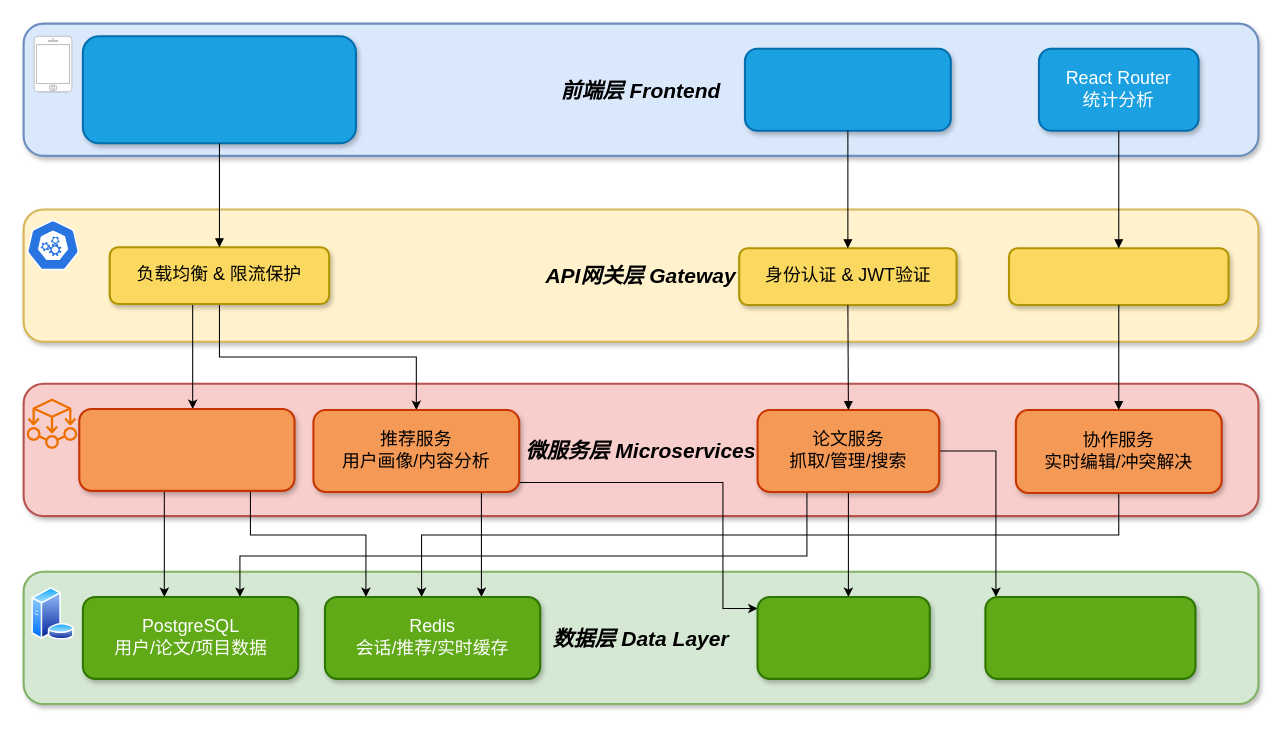
This 1283x730 diagram has some shape labels left out. Each missing label, with the centre of its shape:
"Elasticsearch 全文/智能搜索" belongs at (x=844, y=639).
"Material-UI 协作编辑/用户管理" belongs at (x=848, y=91).
"MinIO 文件/PDF/图片存储" belongs at (x=1091, y=639).
"React SPA 论文管理/推荐展示/项目管理" belongs at (x=220, y=90).
"用户服务 认证/权限/团队管理" belongs at (x=187, y=451).
"请求路由 & 日志记录" belongs at (x=1119, y=278).
